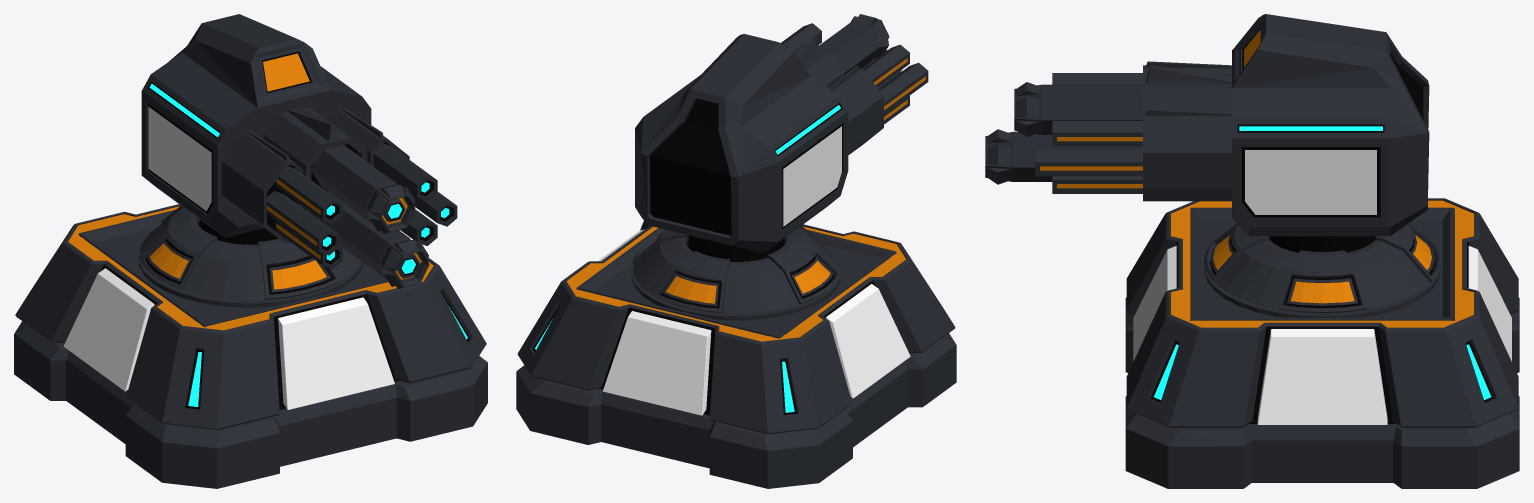
The model's file is SM_Turret_BarrageArray.fbx.
3 views of the same model, side by side, from view 1: azimuth 30°, elevation 25°; view 2: azimuth 150°, elevation 25°; view 3: azimuth 270°, elevation 25° (orthographic). The views are drawn at different scales.
Parts seen in each view (by area): view 1: SM_Turret_BarrageArray_Base, SM_Turret_BarrageArray_Weapon; view 2: SM_Turret_BarrageArray_Base, SM_Turret_BarrageArray_Weapon; view 3: SM_Turret_BarrageArray_Weapon, SM_Turret_BarrageArray_Base.
Part boxes in pixels (x1=…): SM_Turret_BarrageArray_Base: x1=14, y1=204, x2=487, y2=488; SM_Turret_BarrageArray_Weapon: x1=138, y1=14, x2=457, y2=307; SM_Turret_BarrageArray_Base: x1=516, y1=221, x2=956, y2=488; SM_Turret_BarrageArray_Weapon: x1=631, y1=14, x2=928, y2=320; SM_Turret_BarrageArray_Weapon: x1=985, y1=14, x2=1441, y2=317; SM_Turret_BarrageArray_Base: x1=1125, y1=198, x2=1519, y2=488.
Bounding box in the file's own units: 100 × 107 × 136.
